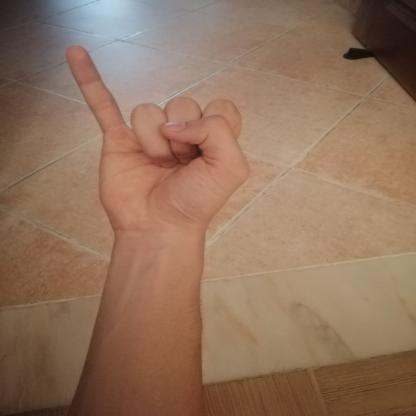MEEM: (51, 33, 270, 247)
